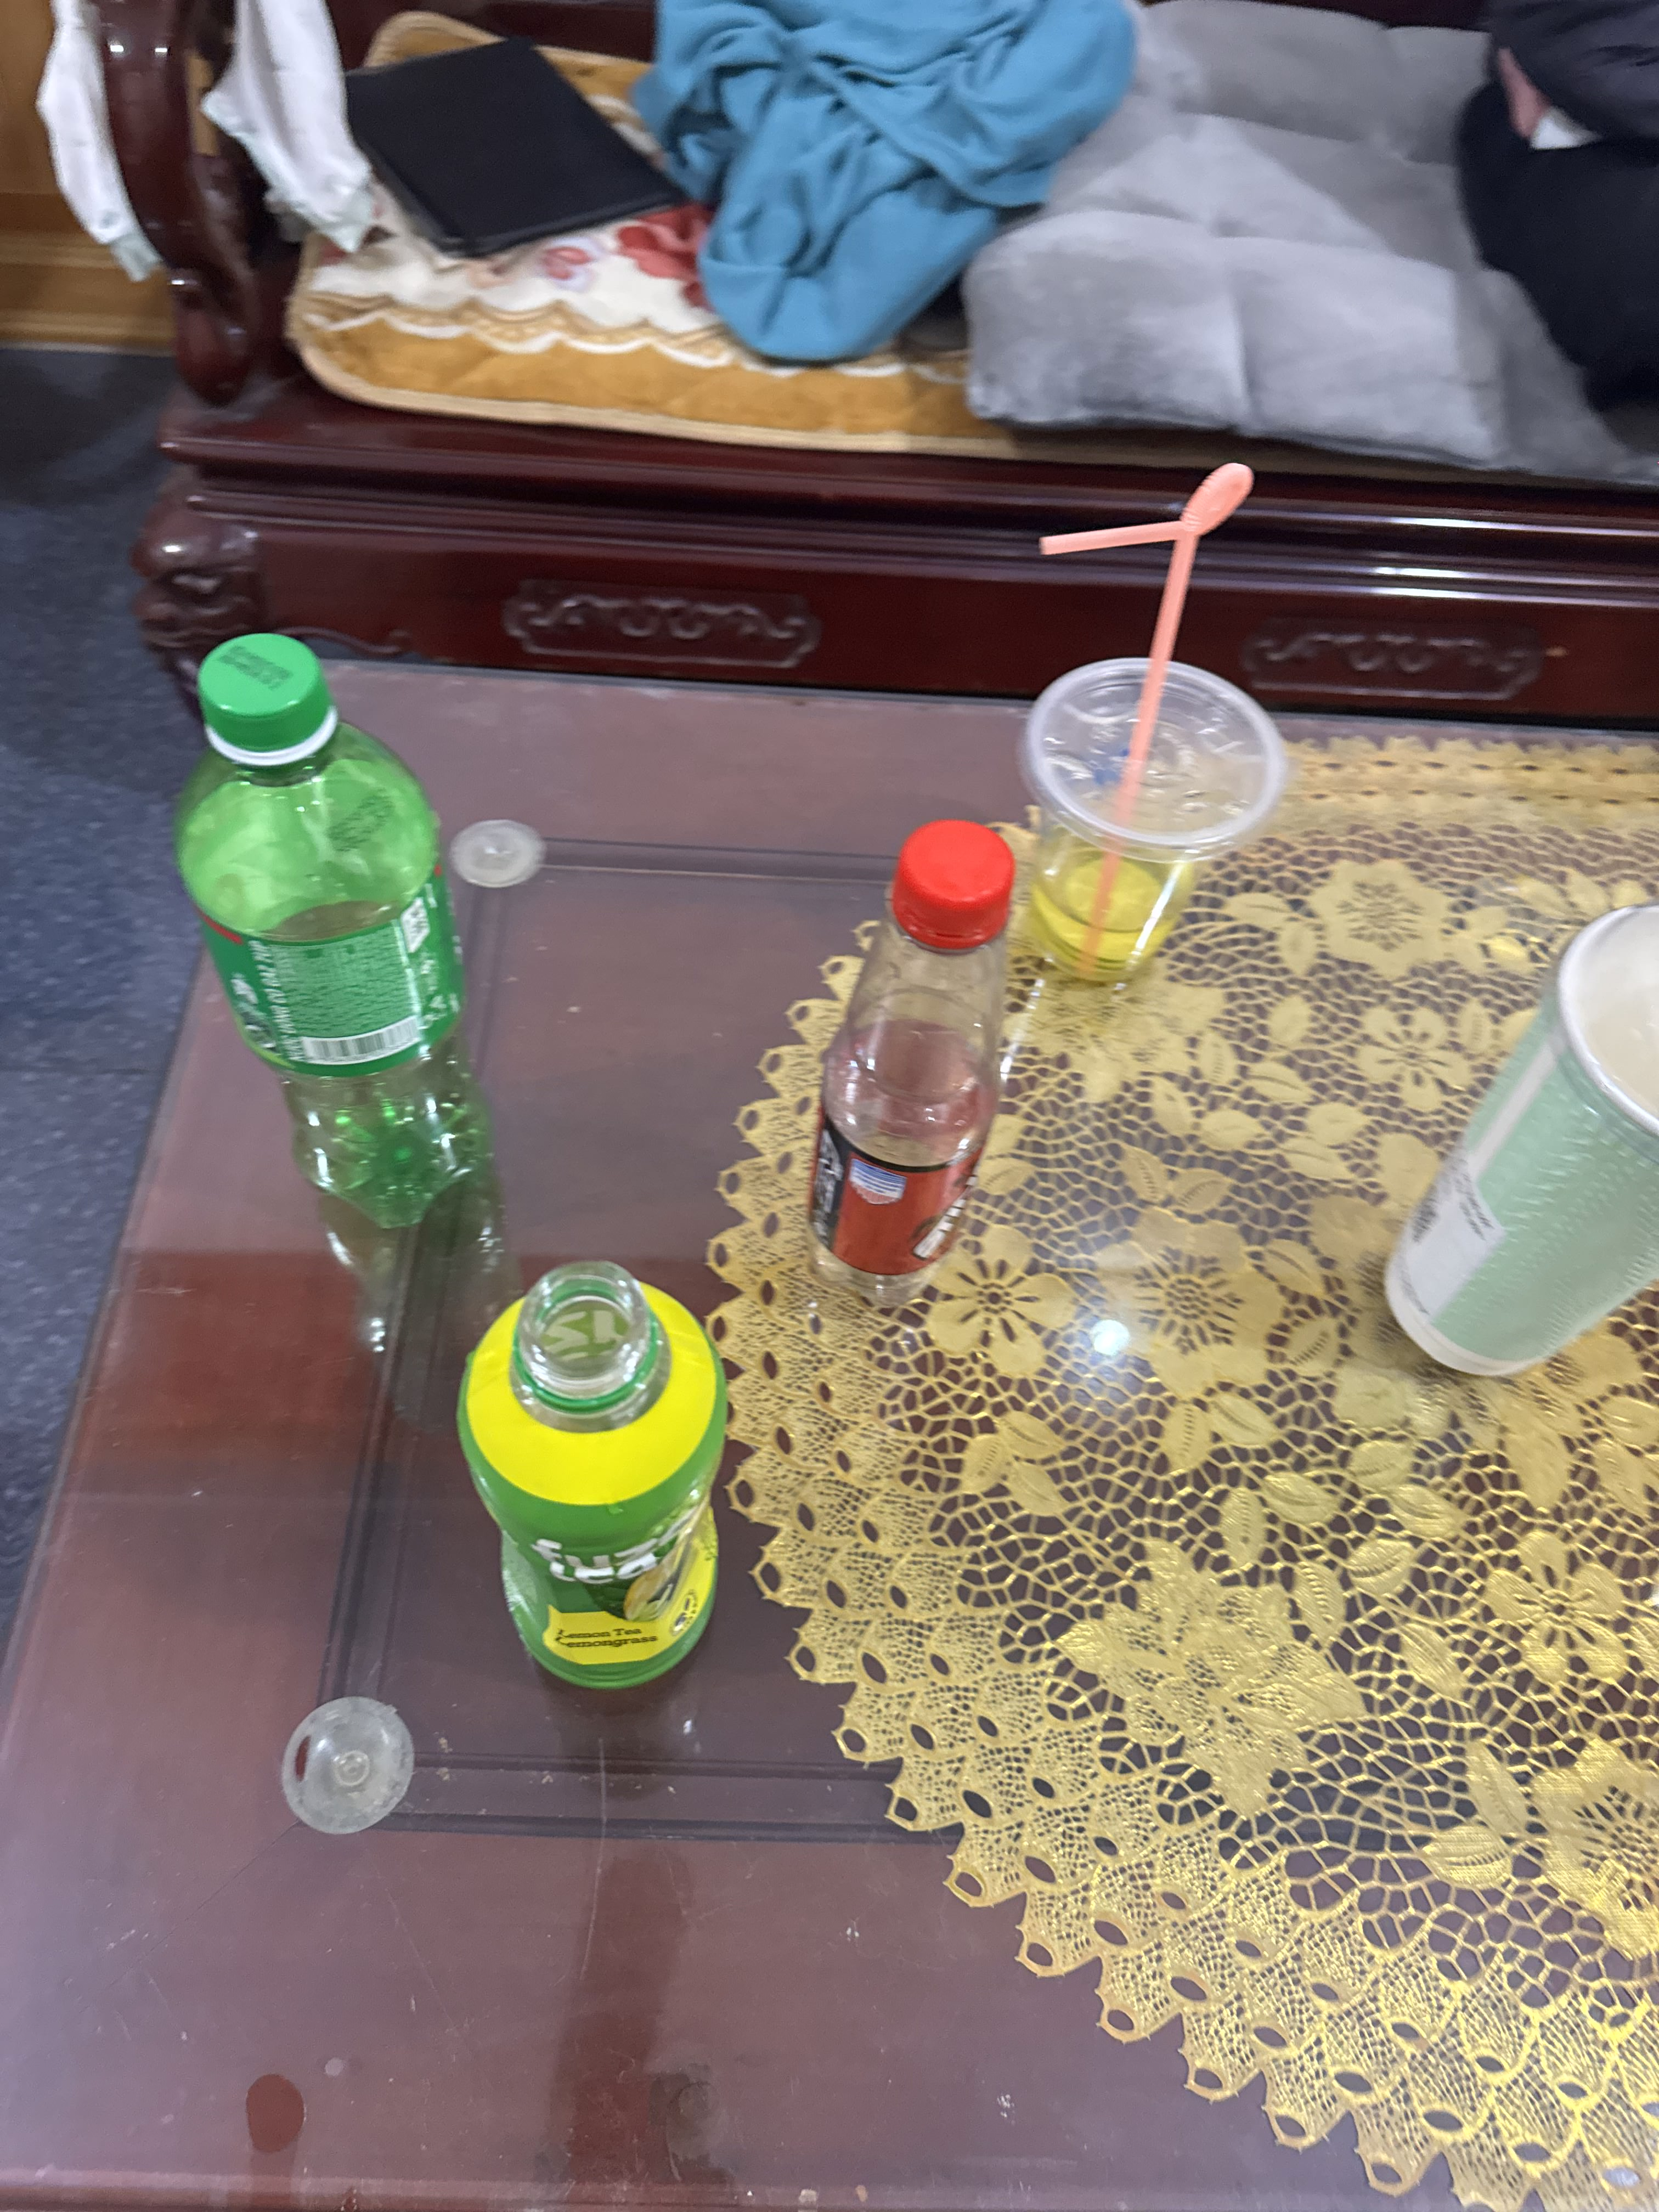2: (1373, 799, 1659, 1460), (997, 639, 1328, 1033)
bottle: (152, 608, 540, 1231), (432, 1251, 784, 1709), (796, 799, 1011, 1359)
